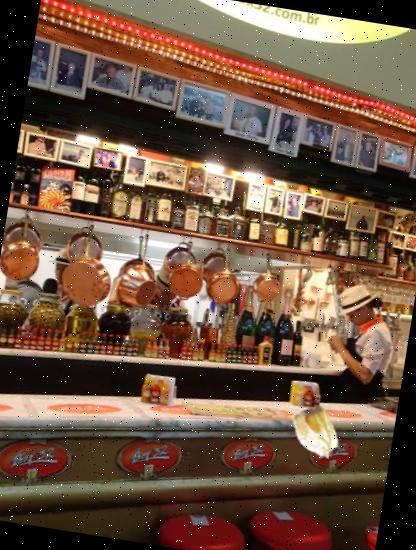Physalis: (284, 402, 350, 467)
